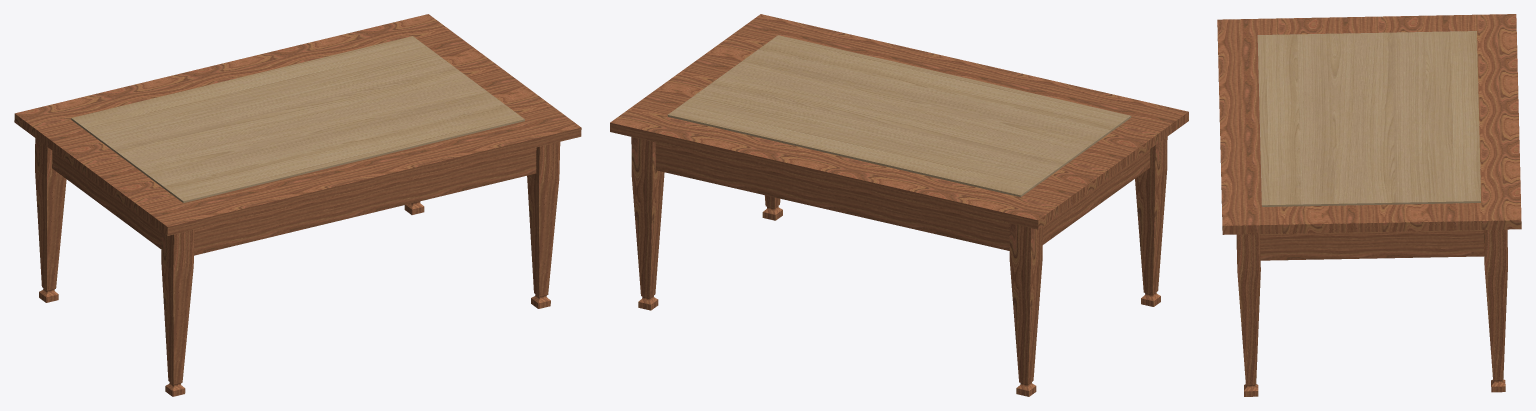
File: coffeetable.obj
3 renders of one model, left to right at view 1: azimuth 30°, elevation 25°; view 2: azimuth 150°, elevation 25°; view 3: azimuth 270°, elevation 25°, orthographic. The views are drawn at different scales.
Parts seen in each view (by area): view 1: Box05, Box06, Rectangle0, Loft05, Loft06, Loft08, Rectangle1; view 2: Box05, Box06, Rectangle2, Loft08, Loft07, Loft05, Rectangle1; view 3: Box05, Box06, Rectangle3, Loft06, Loft07.
Boxes of the visible parts, left/top/right/bottom form: Box05: left=71, top=36, right=524, bottom=202; Box06: left=14, top=14, right=581, bottom=235; Rectangle0: left=194, top=147, right=536, bottom=255; Loft05: left=161, top=229, right=194, bottom=396; Loft06: left=527, top=142, right=560, bottom=308; Loft08: left=35, top=138, right=66, bottom=302; Rectangle1: left=52, top=151, right=161, bottom=249; Box05: left=667, top=35, right=1131, bottom=197; Box06: left=610, top=14, right=1188, bottom=229; Rectangle2: left=655, top=142, right=1009, bottom=250; Loft08: left=1009, top=223, right=1042, bottom=396; Loft07: left=631, top=137, right=664, bottom=310; Loft05: left=1135, top=136, right=1167, bottom=306; Rectangle1: left=1042, top=149, right=1150, bottom=244; Box05: left=1257, top=31, right=1480, bottom=206; Box06: left=1217, top=14, right=1521, bottom=234; Rectangle3: left=1260, top=230, right=1484, bottom=260; Loft06: left=1236, top=234, right=1260, bottom=396; Loft07: left=1483, top=229, right=1507, bottom=392.
Bounding box in the file's own units: 1208 × 526 × 763.
